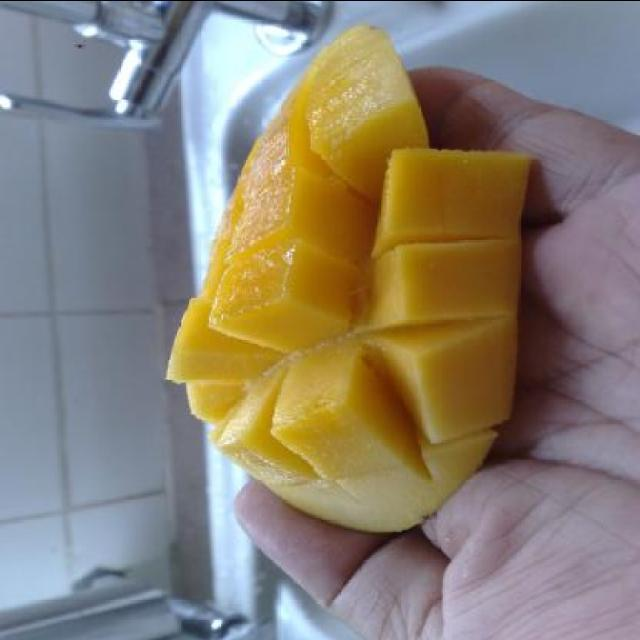Mango: (166, 23, 532, 535)
